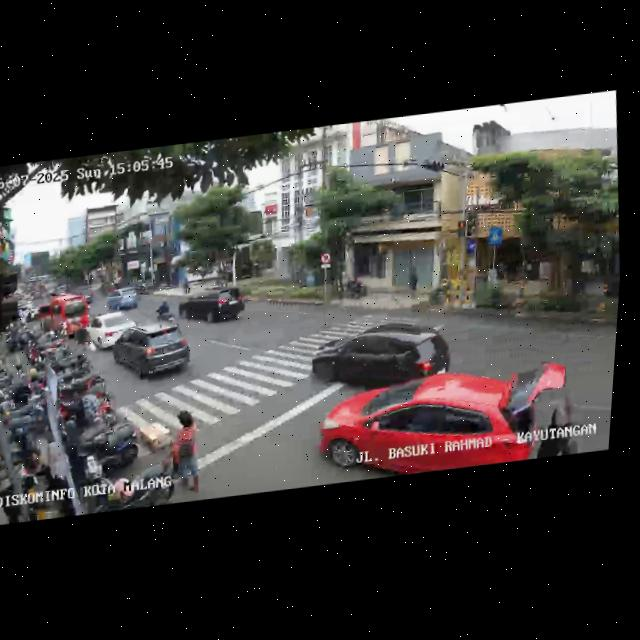car: (310, 356, 579, 485), (308, 313, 457, 400), (110, 319, 196, 387), (175, 284, 248, 330), (36, 291, 91, 339), (84, 309, 138, 352), (103, 285, 140, 314)
motorcycle: (152, 294, 176, 323)
person: (167, 406, 208, 497)
